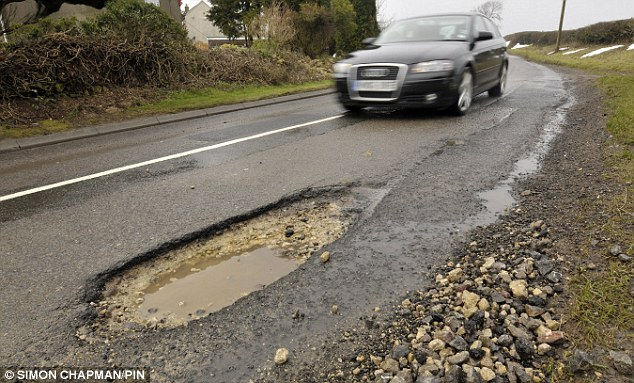pothole: (67, 216, 382, 331)
